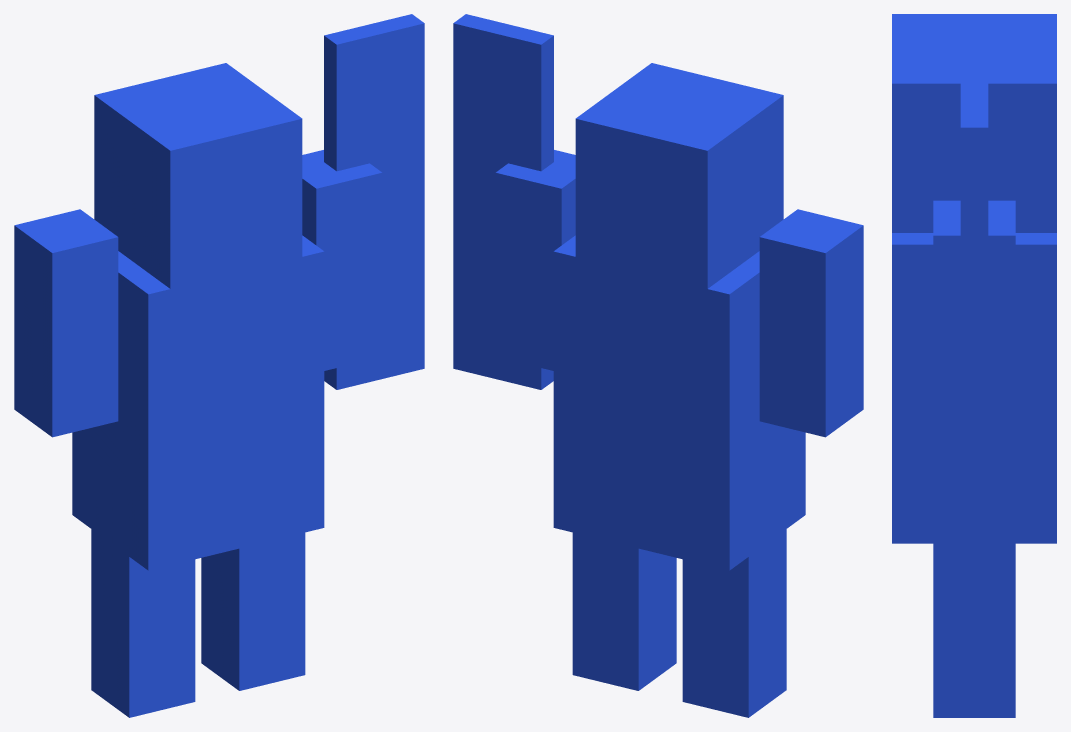
The model's file is unit_worker.obj.
The picture shows the model from 3 angles, left to right: view 1: azimuth 30°, elevation 25°; view 2: azimuth 150°, elevation 25°; view 3: azimuth 270°, elevation 25°; orthographic projection. The views are drawn at different scales.
Size of the model in its own units: 0.175 by 0.265 by 0.06.
